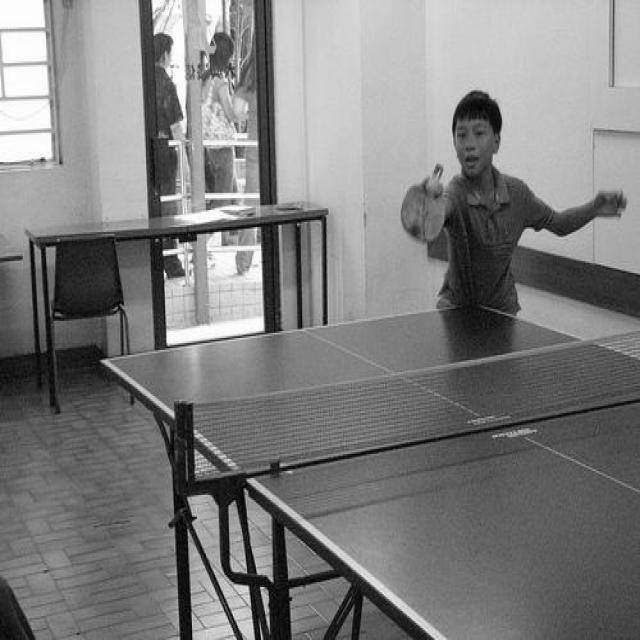ping-pong-ball: (428, 176, 440, 194)
